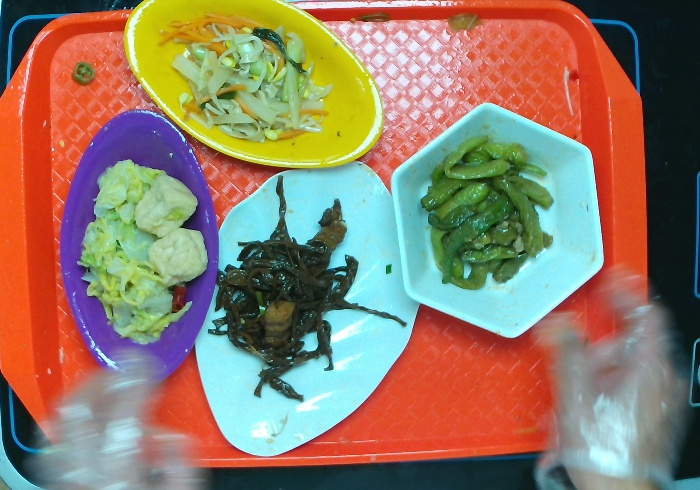RJxy-Bai_Ye_Pan: (190, 157, 419, 459)
RJxy-Fen_Hong_Tuo_Yuan: (60, 103, 218, 391)
RJxy-Huang_Se_Tuo_Yuan: (121, 1, 382, 168)
RJxy-Liu_Jiao_Wan: (390, 101, 609, 345)
